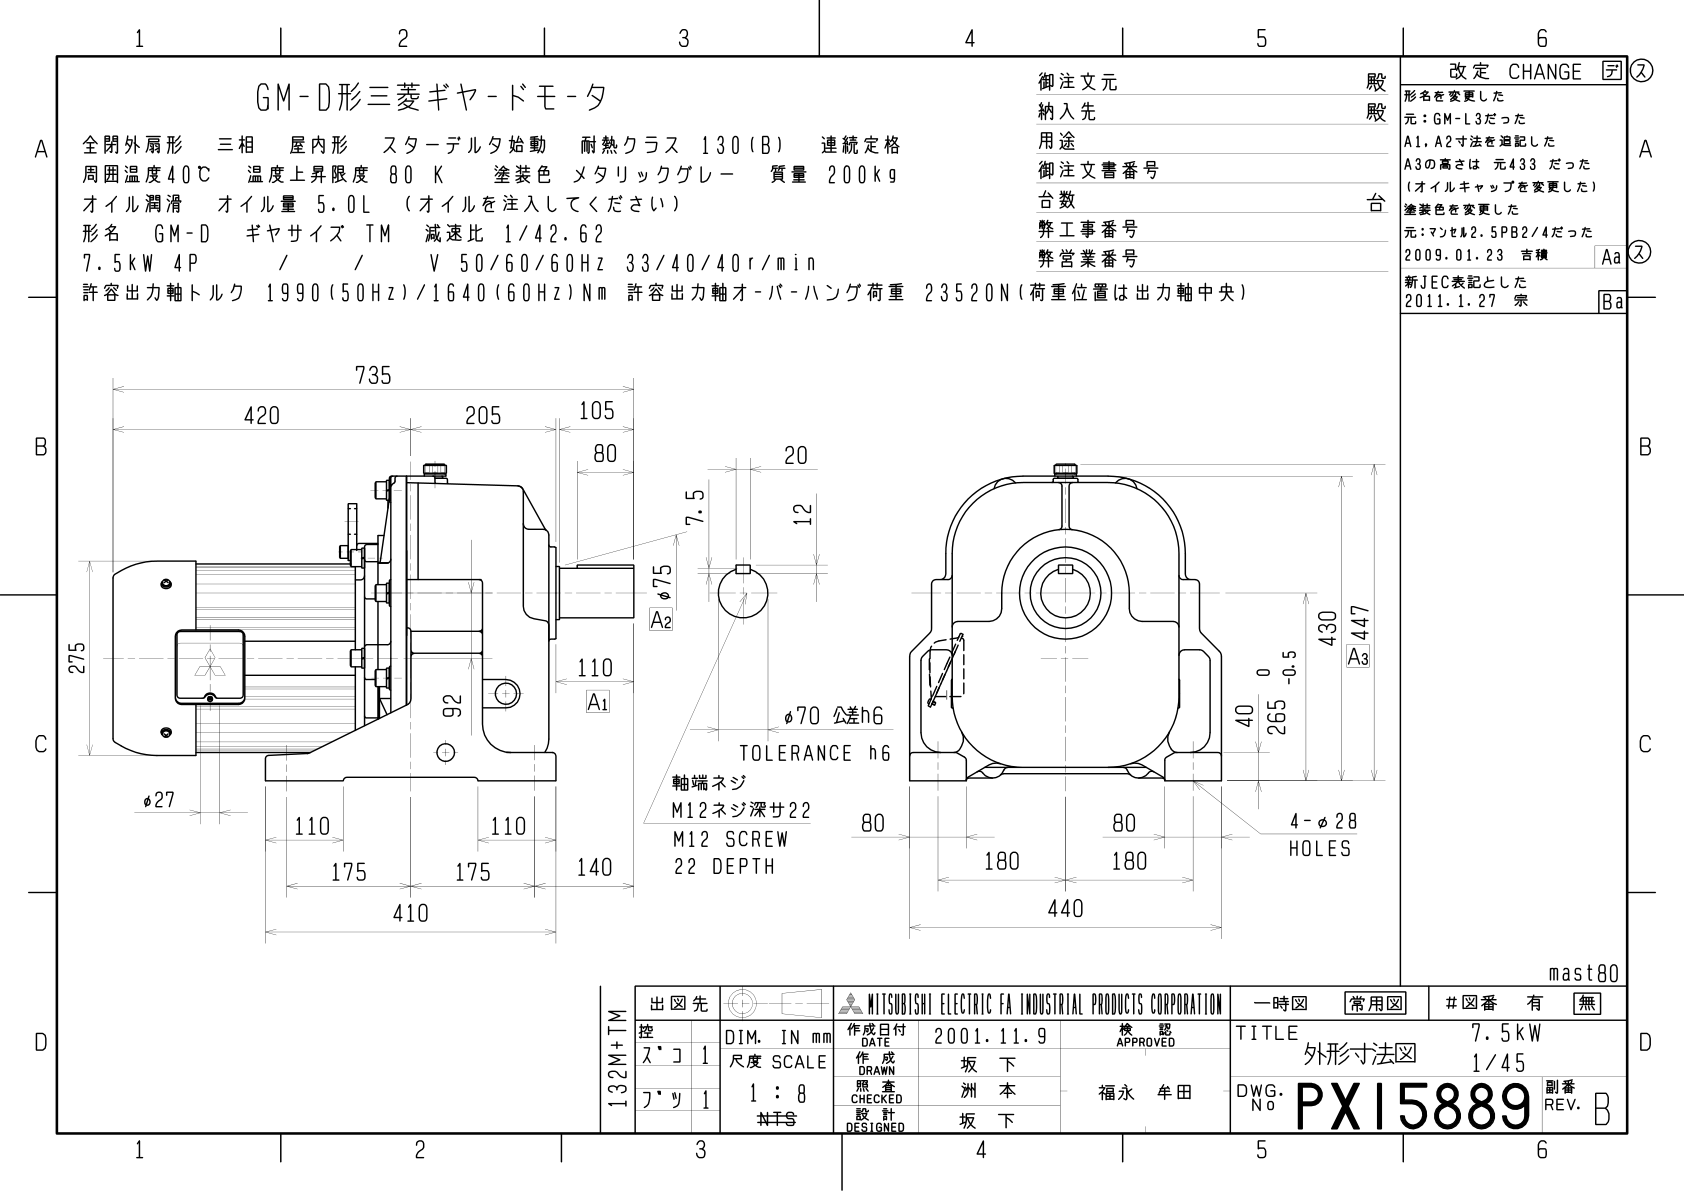GM_D_屋内＿三相_脚: (58, 331, 1393, 978)
